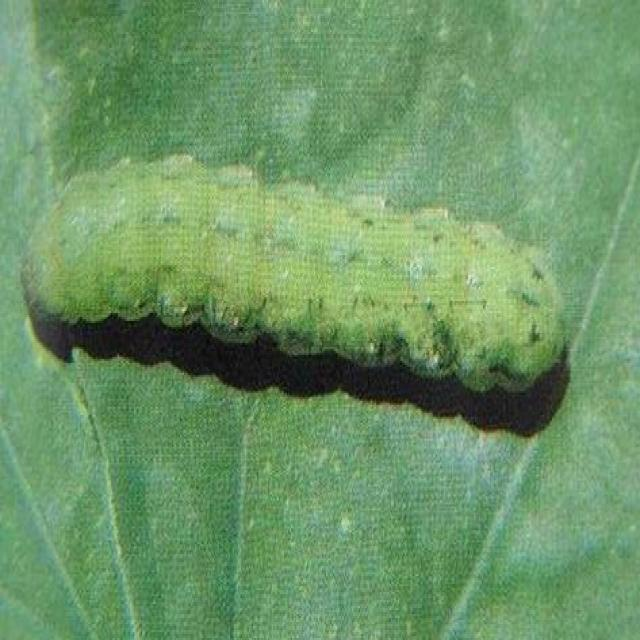BeetArmyWorm-Larva-: (7, 133, 586, 414)
